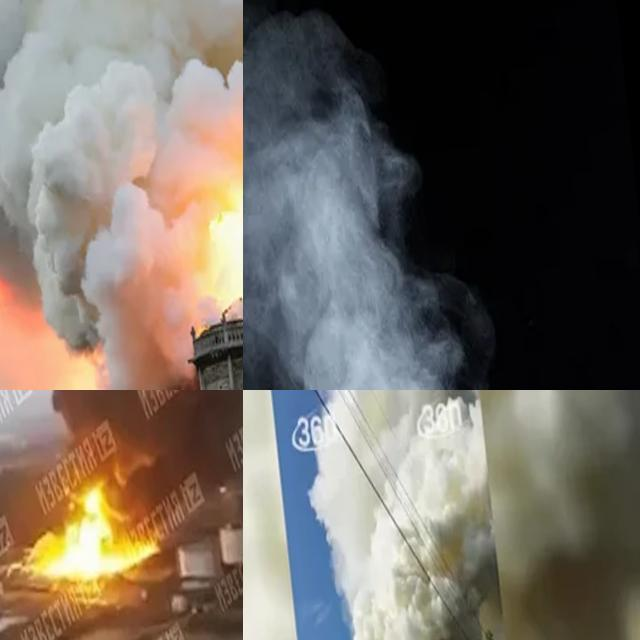smoke: (243, 0, 563, 390), (0, 0, 243, 390), (293, 390, 522, 640), (25, 390, 243, 545)
